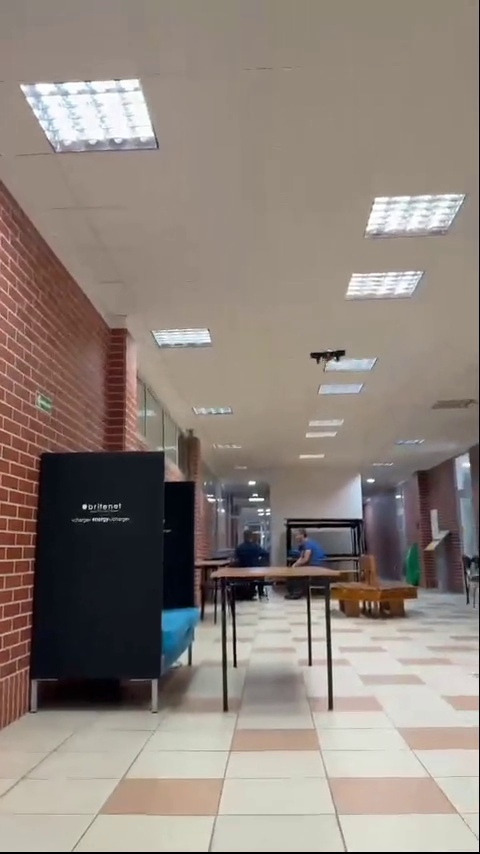drone: (309, 351, 345, 365)
no vest: (289, 526, 328, 571), (230, 524, 268, 563)
